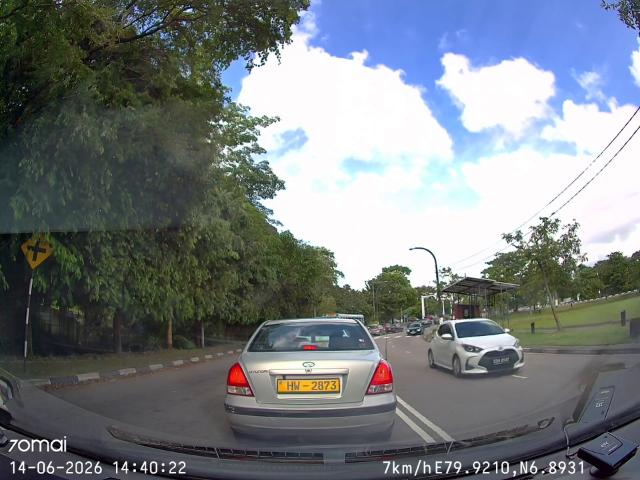number plate: (271, 374, 348, 401)
